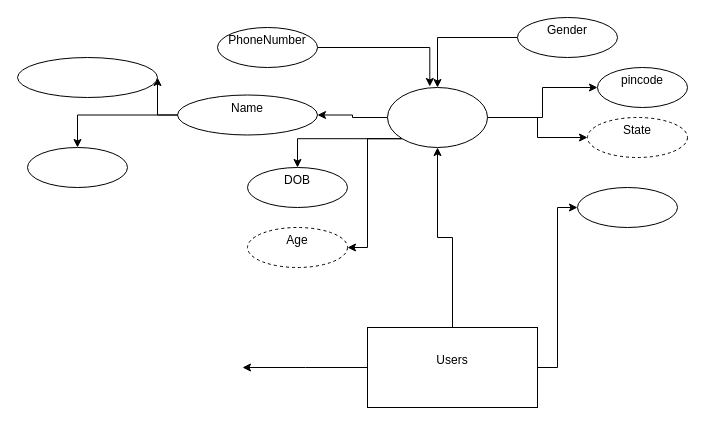
This 705x425 diagram has some shape labels left out. The shapes that lost their labels are listed below. From the top down, each one's box as (x1, y1, x2, y2) in pixels, then its label:
(16, 56, 158, 98): LastName
(386, 86, 488, 148): Credentials
(26, 146, 128, 188): FirstName
(576, 186, 678, 228): UserID
